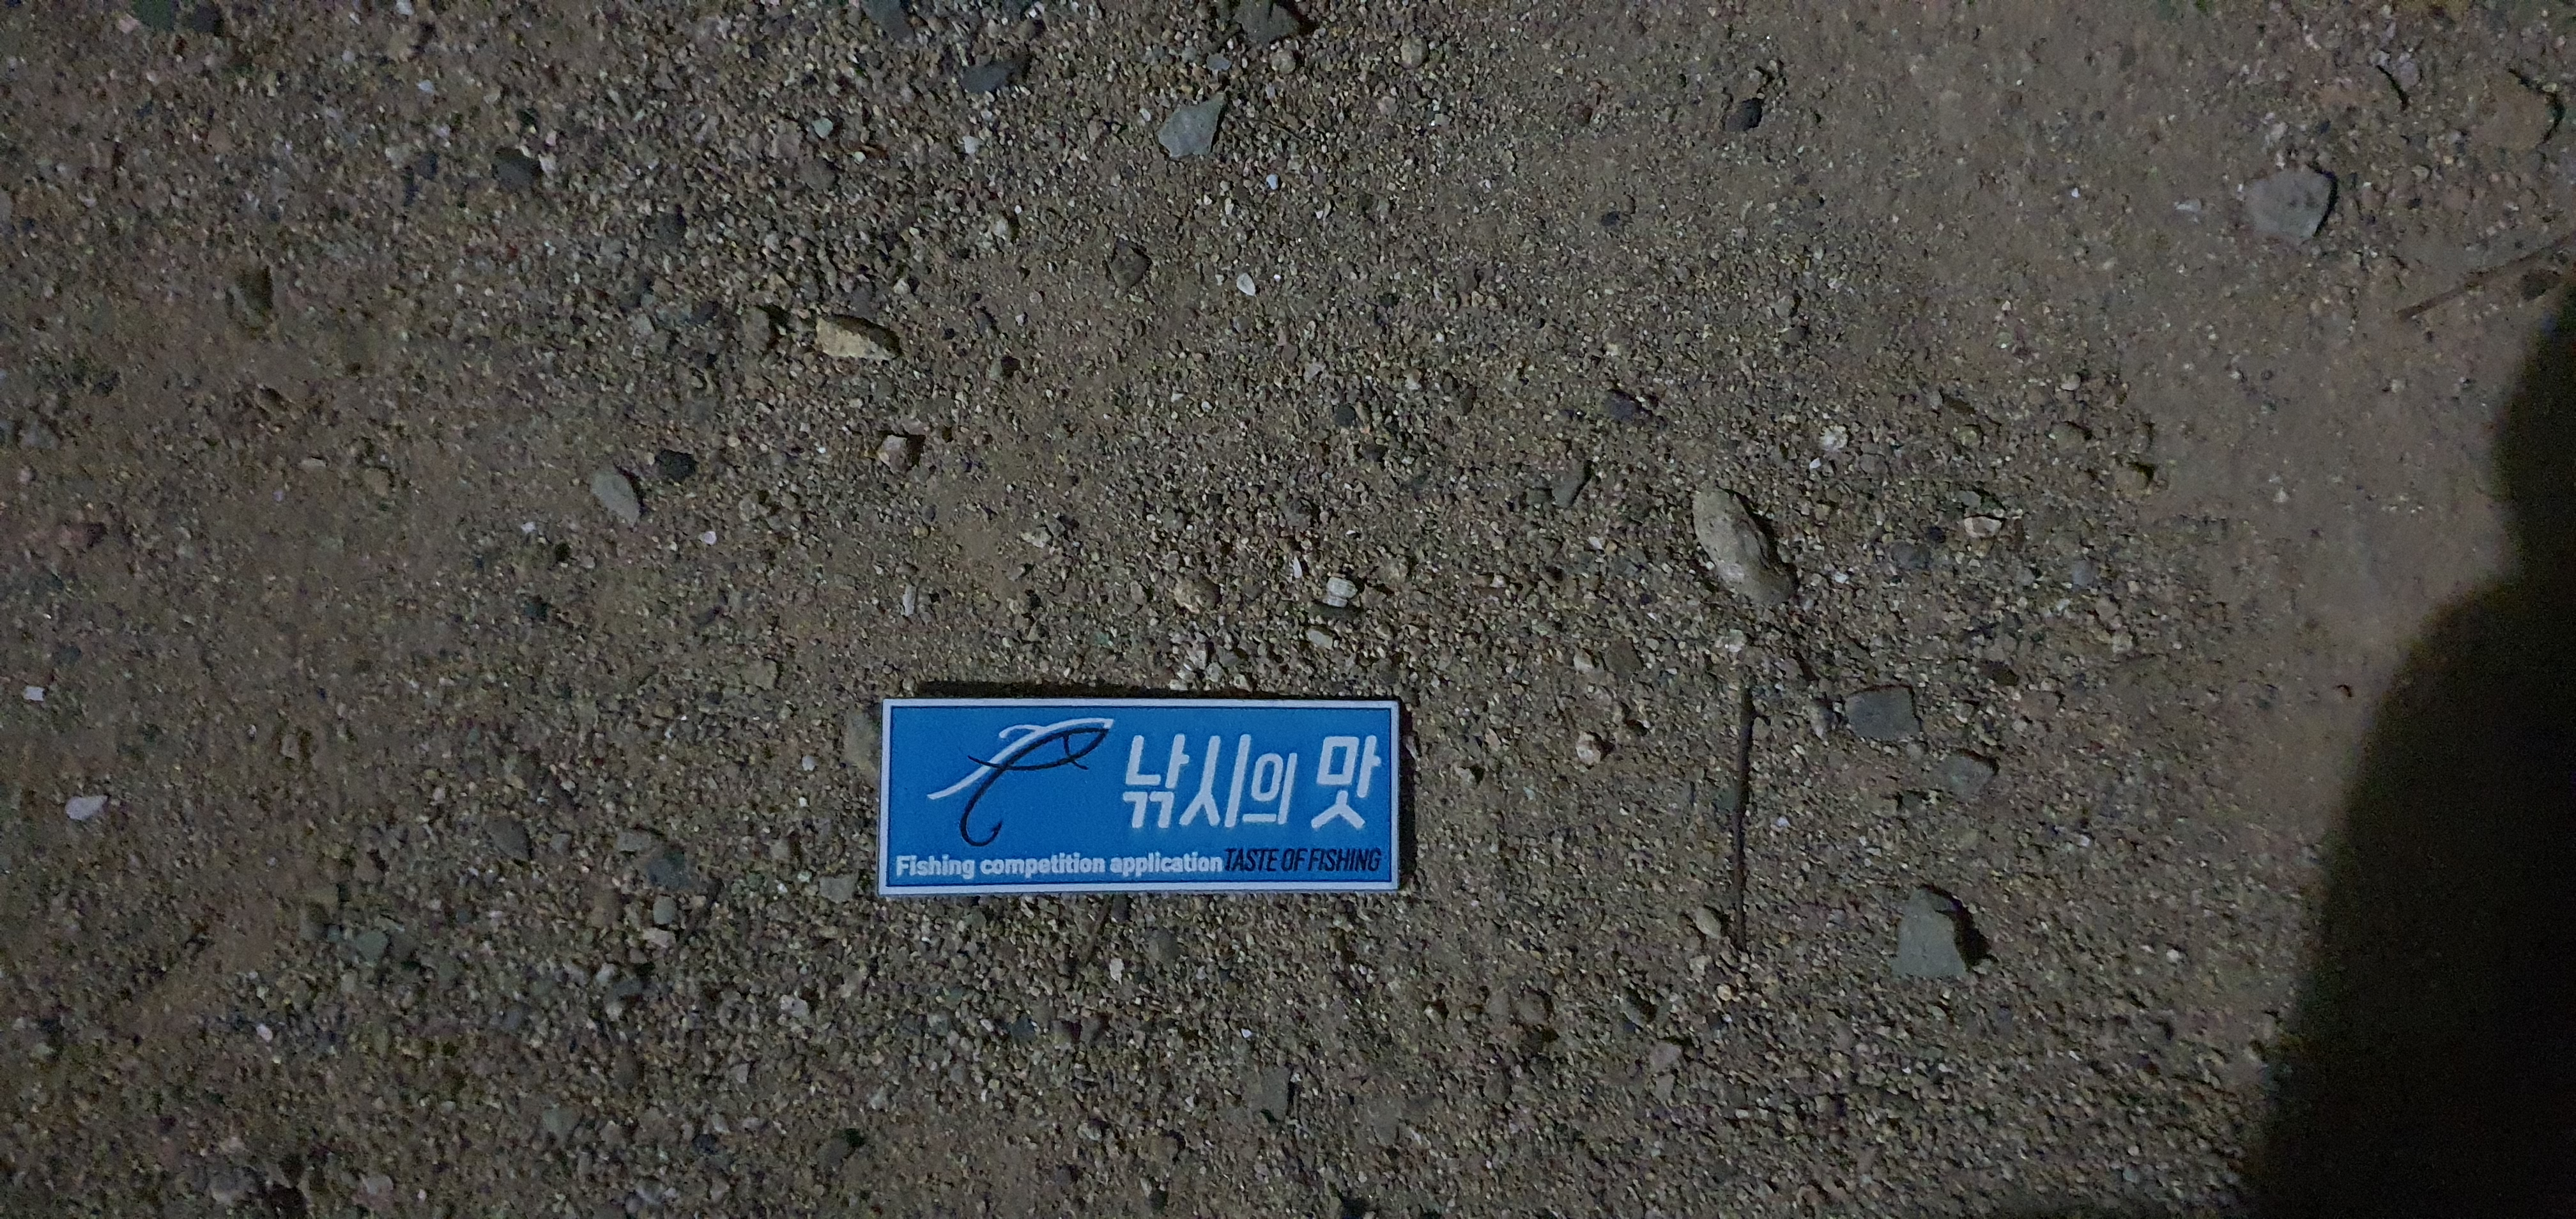tag: (881, 697, 1401, 897)
